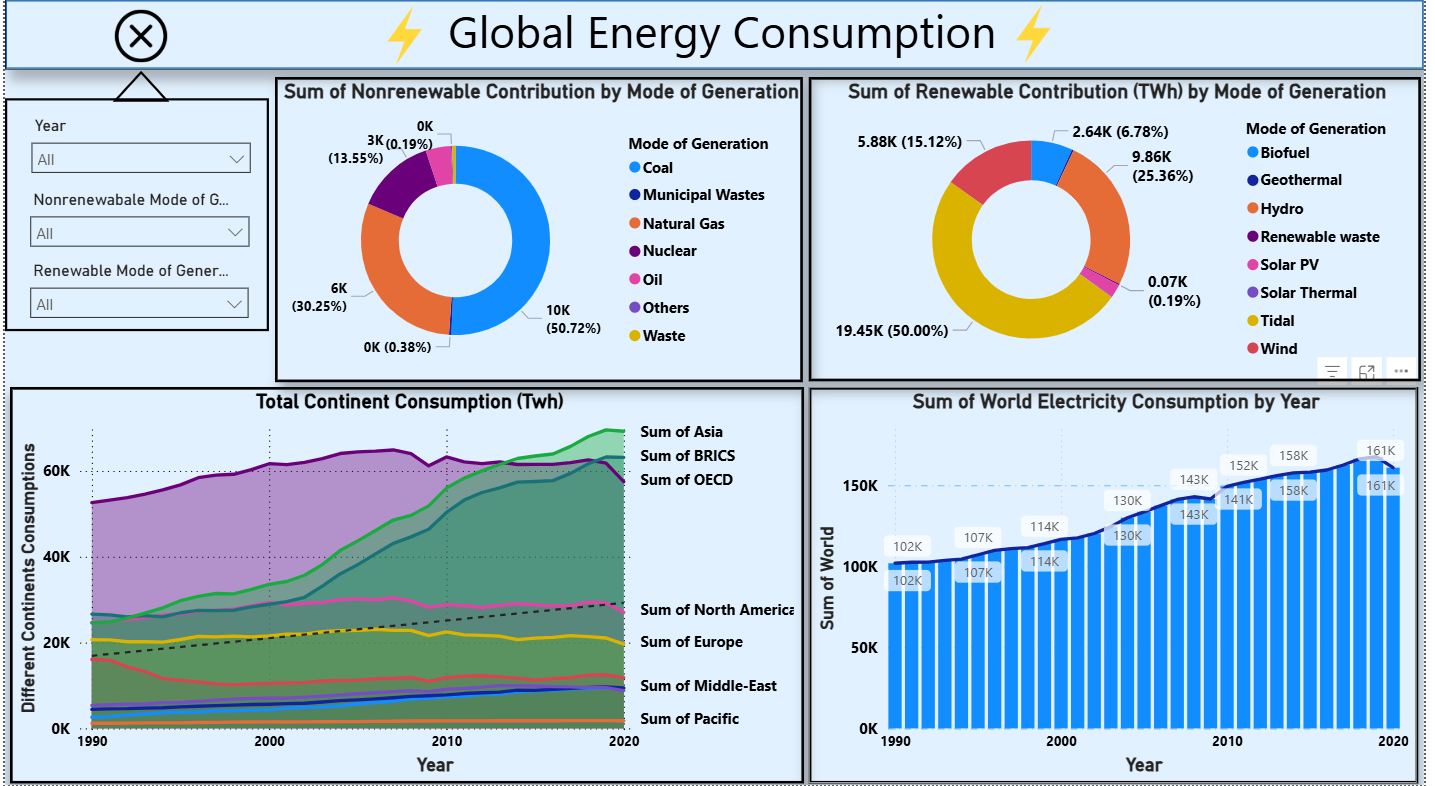

What the dashboard file says about the page in this screenshot:
{"tool":"powerbi","page":{"name":"Global Dashboard","canvas":[1280,720],"ordinal":0},"visuals":[{"type":"shape","box":[0,11.2,1280,63.4],"z":0},{"type":"group","id":"g1","title":"Group 5","box":[3.1,82,236,88.9],"z":0,"group":"g4"},{"type":"shape","box":[3.1,82,236,87],"z":0,"group":"g1"},{"type":"shape","box":[3.1,174.7,236,87.4],"z":0,"group":"g2"},{"type":"shape","box":[3.1,268.2,236,87.4],"z":0,"group":"g3"},{"type":"card","title":"Sum of NonRenevable Contribution(Twh)","fields":{"Values":["nonRenewablesTotalPowerGeneration.sum of Contribution"]},"box":[3.1,83.5,236,87.4],"z":1000,"group":"g1"},{"type":"group","id":"g2","title":"Group 6","box":[3.1,174.7,236,89.1],"z":1000,"group":"g4"},{"type":"card","title":"Sum of Renevable Contribution(Twh)","fields":{"Values":["renewablesTotalPowerGeneration.sum of renewable contribution"]},"box":[3.1,176.3,235.9,87.5],"z":1000,"group":"g2"},{"type":"card","title":"Average Use world by year(Twh)","fields":{"Values":["Continent_Consumption_TWh.Average consumption of world"]},"box":[3.2,269.8,235.9,87.5],"z":1000,"group":"g3"},{"type":"lineChart","title":"Total Continent Consumption (Twh)","fields":{"Category":["Continent_Consumption_TWh.Year"],"Y":["Sum(Continent_Consumption_TWh.Middle-East)","Sum(Continent_Consumption_TWh.Africa)","Sum(Continent_Consumption_TWh.Pacific)","Sum(Continent_Consumption_TWh.OECD)","Sum(Continent_Consumption_TWh.North America)","Sum(Continent_Consumption_TWh.Latin America)","Sum(Continent_Consumption_TWh.Europe)","Sum(Continent_Consumption_TWh.CIS)","Sum(Continent_Consumption_TWh.BRICS)","Sum(Continent_Consumption_TWh.Asia)"]},"box":[4.3,360.7,715.6,357.8],"z":1000},{"type":"group","id":"g3","title":"Group 7","box":[3.1,268.2,236,89.1],"z":2000,"group":"g4"},{"type":"lineStackedColumnComboChart","title":"Sum of World Electricity Consumption  by Year","fields":{"Category":["Continent_Consumption_TWh.Year"],"Y":["Sum(Continent_Consumption_TWh.World)"],"Y2":["Sum(Continent_Consumption_TWh.World)"]},"box":[724.3,360.7,549.7,357.8],"z":3000},{"type":"donutChart","title":"Sum of  Nonrenewable Contribution  by Mode of Generation","fields":{"Y":["Sum(nonRenewablesTotalPowerGeneration.Contribution (TWh))"],"Category":["nonRenewablesTotalPowerGeneration.Mode of Generation"]},"box":[243.8,80.8,476.1,275.6],"z":4000},{"type":"donutChart","title":"Sum of  Renewable Contribution (TWh) by Mode of Generation","fields":{"Y":["Sum(renewablesTotalPowerGeneration.Contribution (TWh))"],"Category":["renewablesTotalPowerGeneration.Mode of Generation"]},"box":[724.9,81,551.7,274],"z":5000},{"type":"group","id":"g4","title":"Group 8","box":[3.1,82,236,275.3],"z":7000},{"type":"image","box":[328.8,12.5,62.5,62.5],"z":8000},{"type":"image","box":[896.2,11.2,62.5,62.5],"z":9000}]}

Visuals, with their boxes in screenshot pixels (x1, y1, x2, y2), scaled from the page's 1280x720 canvas onto the 1435x786 screenshot:
shape: pyautogui.locateOnScreen(0, 12, 1434, 81)
"Group 5" group: pyautogui.locateOnScreen(3, 90, 268, 187)
shape: pyautogui.locateOnScreen(3, 90, 268, 184)
shape: pyautogui.locateOnScreen(3, 191, 268, 286)
shape: pyautogui.locateOnScreen(3, 293, 268, 388)
"Sum of NonRenevable Contribution(Twh)" card: pyautogui.locateOnScreen(3, 91, 268, 187)
"Group 6" group: pyautogui.locateOnScreen(3, 191, 268, 288)
"Sum of Renevable Contribution(Twh)" card: pyautogui.locateOnScreen(3, 192, 268, 288)
"Average Use world by year(Twh)" card: pyautogui.locateOnScreen(4, 295, 268, 390)
"Total Continent Consumption (Twh)" lineChart: pyautogui.locateOnScreen(5, 394, 807, 784)
"Group 7" group: pyautogui.locateOnScreen(3, 293, 268, 390)
"Sum of World Electricity Consumption  by Year" lineStackedColumnComboChart: pyautogui.locateOnScreen(812, 394, 1428, 784)
"Sum of  Nonrenewable Contribution  by Mode of Generation" donutChart: pyautogui.locateOnScreen(273, 88, 807, 389)
"Sum of  Renewable Contribution (TWh) by Mode of Generation" donutChart: pyautogui.locateOnScreen(813, 88, 1431, 388)
"Group 8" group: pyautogui.locateOnScreen(3, 90, 268, 390)
image: pyautogui.locateOnScreen(369, 14, 439, 82)
image: pyautogui.locateOnScreen(1005, 12, 1075, 80)
